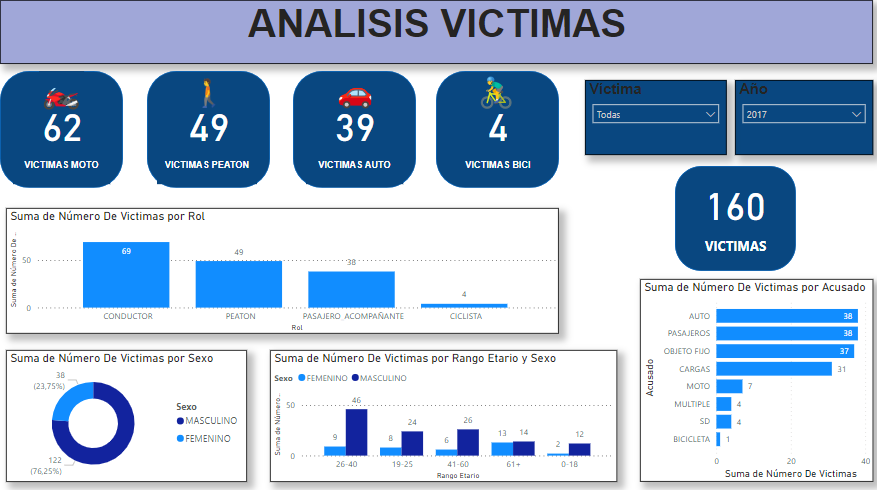

Layout of this report page (visuals, bound fields, positions):
{"tool":"powerbi","page":{"name":"Análisis Víctimas","canvas":[1280,720],"ordinal":4},"visuals":[{"type":"textbox","title":"ANALISIS VICTIMAS","box":[10,11,1257,92],"z":0},{"type":"slicer","title":"Año","fields":{"Values":["Calendario.Date.Variación.Jerarquía de fechas.Año"]},"box":[1068.5,126.7,198.7,108],"z":1000},{"type":"slicer","title":"Víctima","fields":{"Values":["victima.Víctima"]},"box":[852.5,126.7,204.5,108],"z":2000},{"type":"shape","box":[10.1,113.8,177.1,168.5],"z":3000},{"type":"shape","box":[221.8,113.8,177.1,168.5],"z":4000},{"type":"shape","box":[432,113.8,177.1,168.5],"z":5000},{"type":"shape","box":[637.9,113.8,177.1,168.5],"z":6000},{"type":"textbox","box":[28.8,234.7,139.7,41.8],"z":7000},{"type":"textbox","box":[236.2,234.7,144,41.8],"z":8000},{"type":"textbox","box":[450.7,234.7,139.7,41.8],"z":9000},{"type":"textbox","box":[648,234.7,158.4,31.7],"z":10000},{"type":"card","fields":{"Values":["Medidas.SumaVictimasEnMoto"]},"box":[44.6,141.1,109.4,93.6],"z":11000},{"type":"card","fields":{"Values":["Medidas.SumaVictimasPeaton"]},"box":[256.3,141.1,109.4,93.6],"z":12000},{"type":"card","fields":{"Values":["Medidas.SumaVictimasEnAuto"]},"box":[466.6,141.1,109.4,93.6],"z":13000},{"type":"card","fields":{"Values":["Medidas.SumaVictimasEnBici"]},"box":[672.5,141.1,109.4,93.6],"z":14000},{"type":"shape","box":[982.1,250.6,174.2,151.2],"z":15000},{"type":"textbox","box":[999.4,348.5,139.7,41.8],"z":16000},{"type":"card","fields":{"Values":["Sum(hechos_main.Número De Victimas)"]},"box":[1013.8,254.9,109.4,93.6],"z":17000},{"type":"image","box":[279.4,118.1,63.4,54.7],"z":18000},{"type":"image","box":[66.2,113.8,64.8,61.9],"z":19000},{"type":"image","box":[491,115.2,60.5,59],"z":20000},{"type":"image","box":[692.6,115.2,63.4,60.5],"z":21000},{"type":"columnChart","fields":{"Category":["rol.Rol"],"Y":["Sum(hechos_main.Número De Victimas)"]},"box":[18.7,311,796.3,181.4],"z":22000},{"type":"donutChart","fields":{"Y":["Sum(hechos_main.Número De Victimas)"],"Category":["sexo.Sexo"]},"box":[18.7,515.5,347,190.1],"z":23000},{"type":"clusteredColumnChart","fields":{"Category":["rango_etario.Rango Etario"],"Y":["Sum(hechos_main.Número De Victimas)"],"Series":["sexo.Sexo"]},"box":[398.9,515.5,499.7,190.1],"z":24000},{"type":"barChart","fields":{"Category":["acusado.Acusado"],"Y":["Sum(hechos_main.Número De Victimas)"]},"box":[931.7,413.3,335.5,292.3],"z":25000}]}

Visuals, with their boxes in screenshot pixels (x1, y1, x2, y2), scaled from the page's 1280x720 canvas onto the 877x490 screenshot:
"ANALISIS VICTIMAS" textbox: <region>7, 7, 868, 70</region>
"Año" slicer: <region>732, 86, 868, 160</region>
"Víctima" slicer: <region>584, 86, 724, 160</region>
shape: <region>7, 77, 128, 192</region>
shape: <region>152, 77, 273, 192</region>
shape: <region>296, 77, 417, 192</region>
shape: <region>437, 77, 558, 192</region>
textbox: <region>20, 160, 115, 188</region>
textbox: <region>162, 160, 260, 188</region>
textbox: <region>309, 160, 405, 188</region>
textbox: <region>444, 160, 553, 181</region>
card - Medidas.SumaVictimasEnMoto: <region>31, 96, 106, 160</region>
card - Medidas.SumaVictimasPeaton: <region>176, 96, 251, 160</region>
card - Medidas.SumaVictimasEnAuto: <region>320, 96, 395, 160</region>
card - Medidas.SumaVictimasEnBici: <region>461, 96, 536, 160</region>
shape: <region>673, 171, 792, 273</region>
textbox: <region>685, 237, 780, 266</region>
card - Sum(hechos_main.Número De Victimas): <region>695, 173, 770, 237</region>
image: <region>191, 80, 235, 118</region>
image: <region>45, 77, 90, 120</region>
image: <region>336, 78, 378, 119</region>
image: <region>475, 78, 518, 120</region>
columnChart - rol.Rol x Sum(hechos_main.Número De Victimas): <region>13, 212, 558, 335</region>
donutChart - Sum(hechos_main.Número De Victimas) x sexo.Sexo: <region>13, 351, 251, 480</region>
clusteredColumnChart - rango_etario.Rango Etario x Sum(hechos_main.Número De Victimas): <region>273, 351, 616, 480</region>
barChart - acusado.Acusado x Sum(hechos_main.Número De Victimas): <region>638, 281, 868, 480</region>
